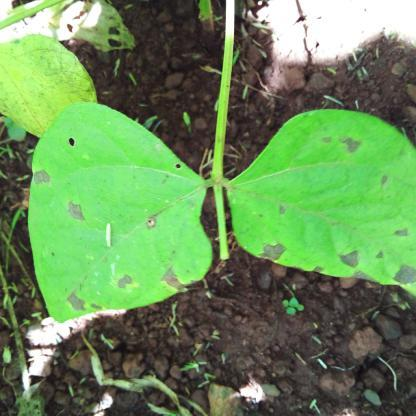Beans_Angular_LeafSpot: (23, 103, 208, 318), (233, 107, 414, 293)
